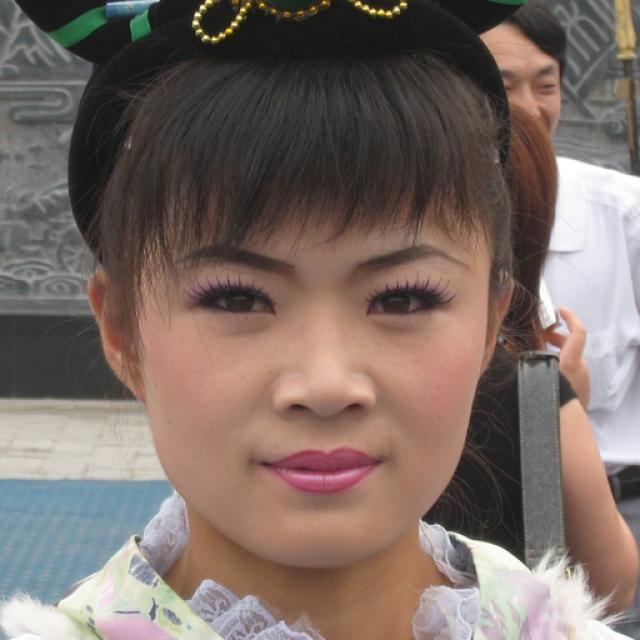content: (138, 118, 490, 568)
